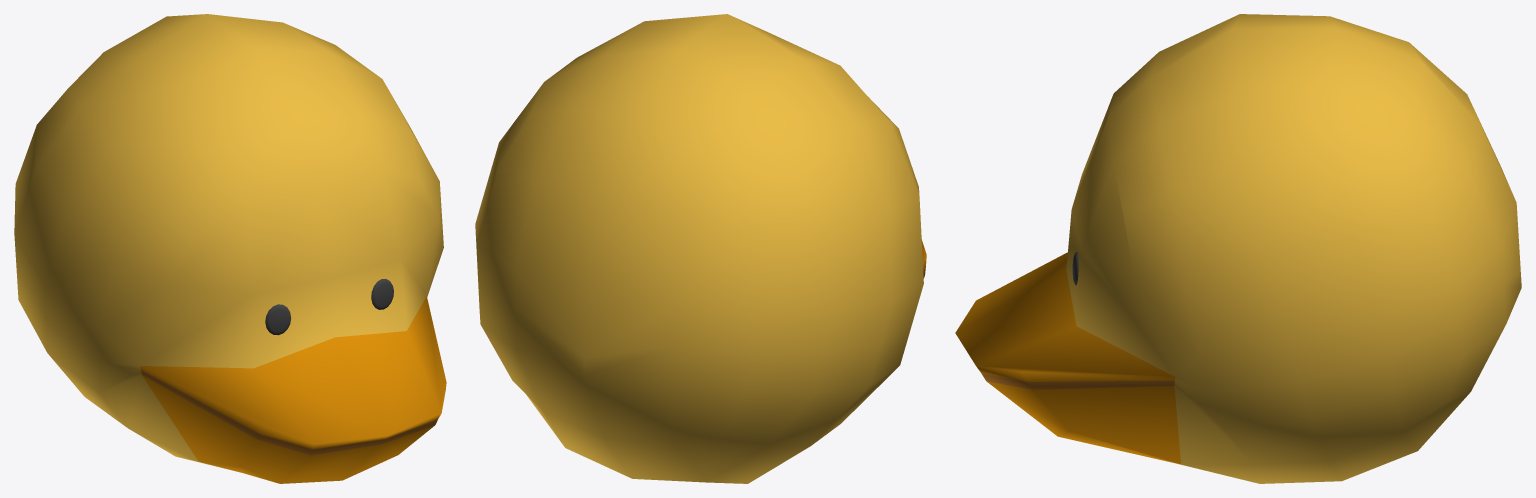
The model's file is DuckModel.glb.
3 views of the same model, side by side, from view 1: azimuth 30°, elevation 25°; view 2: azimuth 150°, elevation 25°; view 3: azimuth 270°, elevation 25° (orthographic). The views are drawn at different scales.
Parts seen in each view (by area): view 1: pato; view 2: pato; view 3: pato.
Part boxes in pixels (x1,y1,x2,y2): pato: (14,14,446,483); pato: (475,14,926,483); pato: (955,14,1521,483).
Size of the model in its own units: 0.9433 by 1.01 by 1.19.
